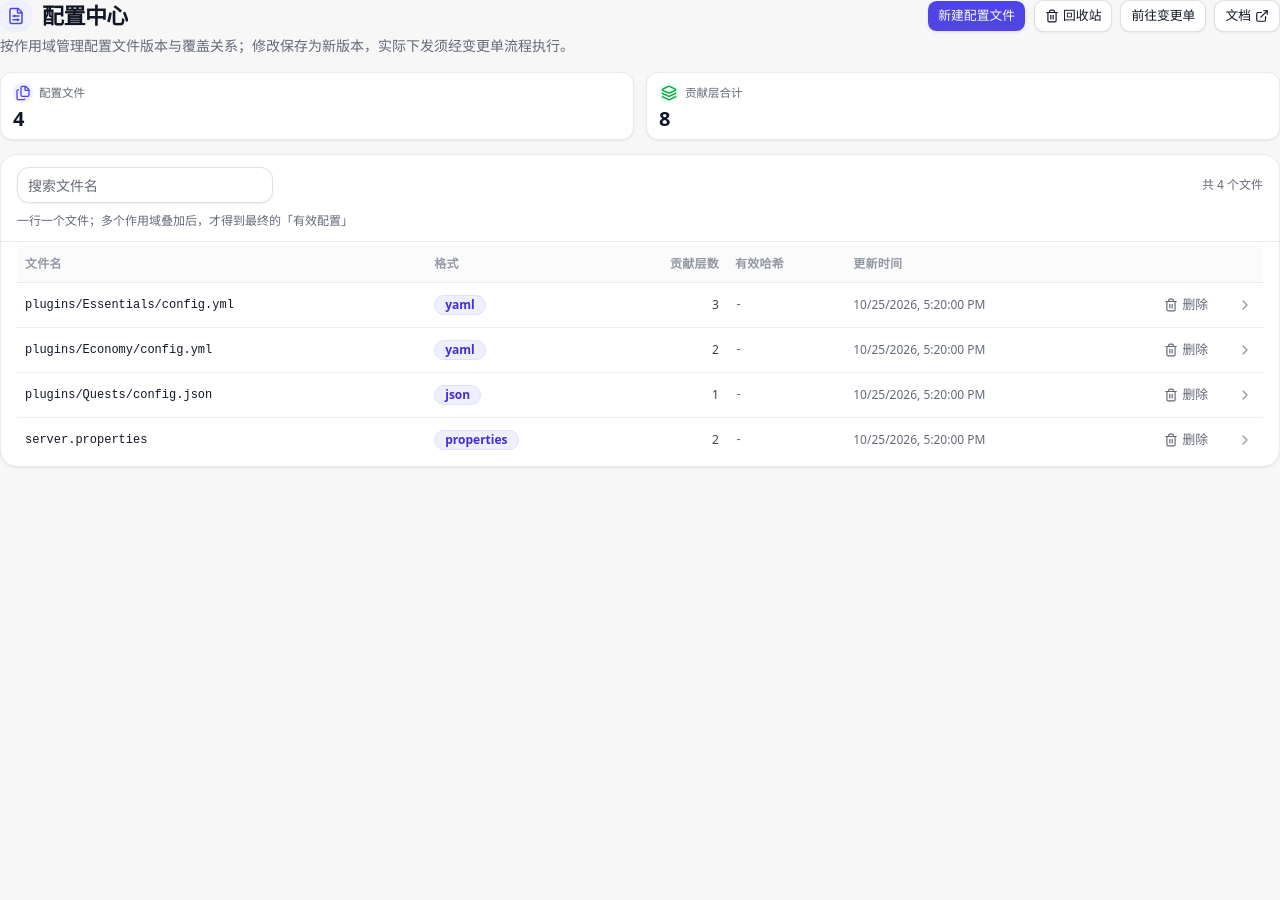
it: /configs 配置中心页 › 点行打开右侧非模态详情面板并切「有效配置」看到合并内容
Click the text "plugins/Essentials/config.yml": (640, 304) top-left (17, 282), bottom-right (1263, 327)
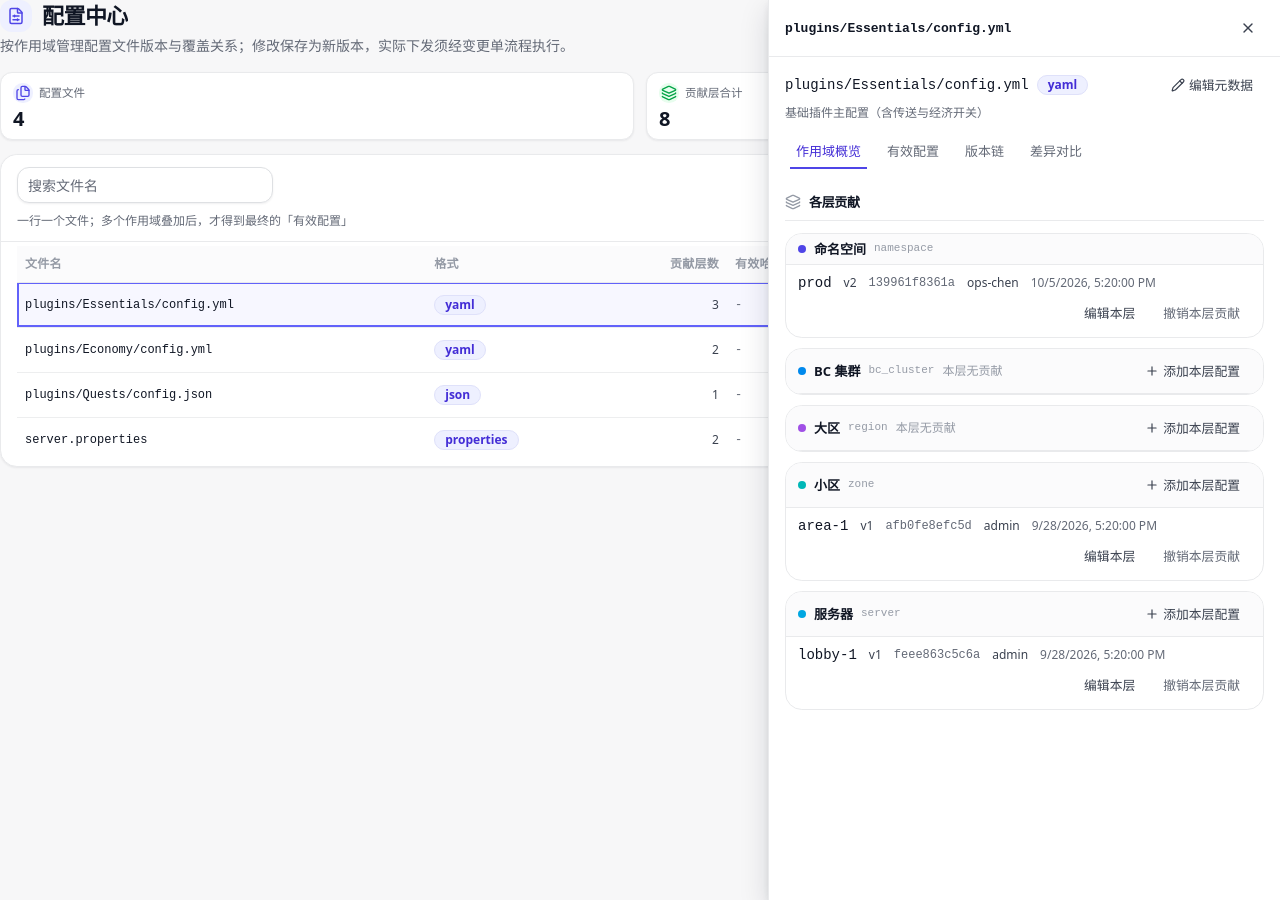
Expected: the tab "作用域概览" is shown, top-left (785, 133), bottom-right (872, 169)
Note: 切到「有效配置」Tab
Click the tab "有效配置": (913, 151) top-left (876, 133), bottom-right (950, 169)
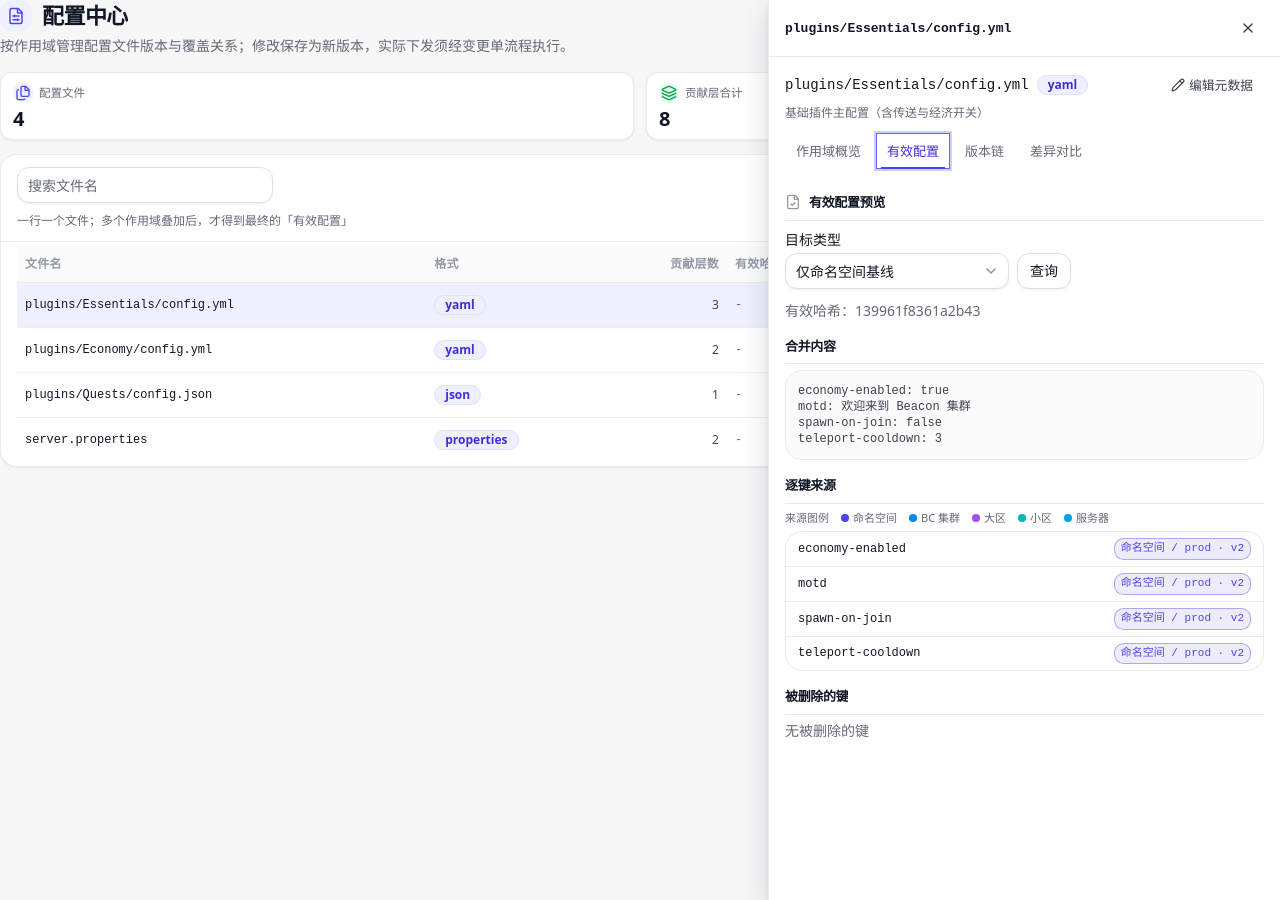
Expected: the text "economy-enabled" is shown, top-left (798, 384), bottom-right (971, 446)
